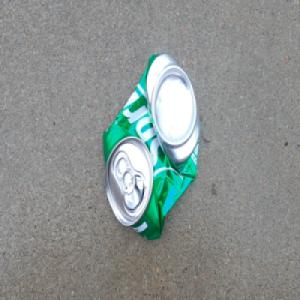SodaCan: (102, 51, 201, 243)
